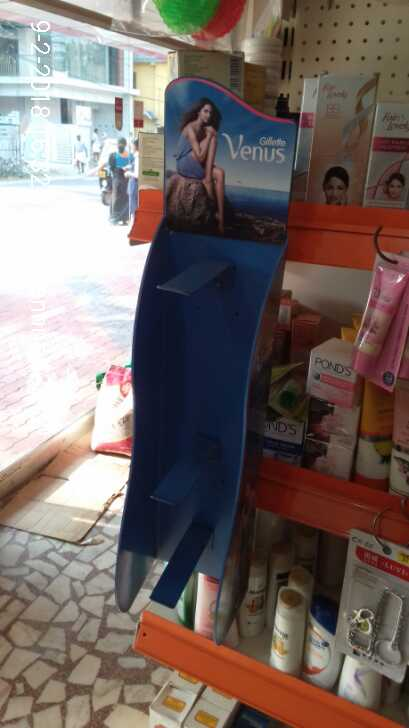reject: (129, 310, 203, 436)
